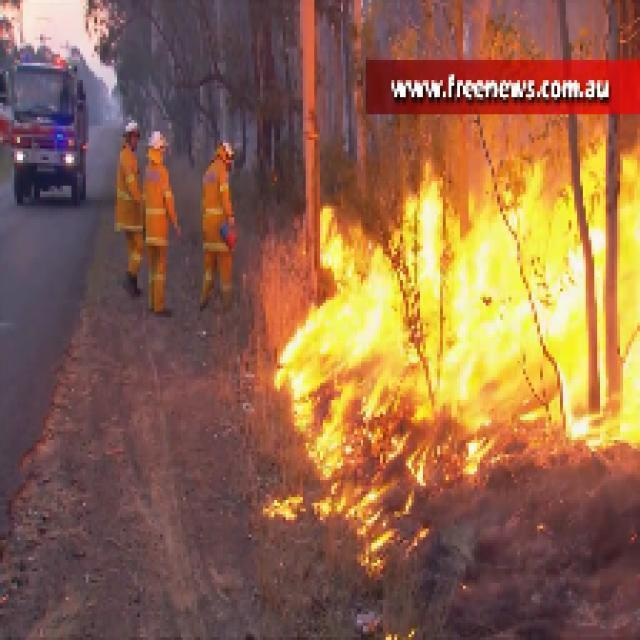Fire: (288, 198, 640, 574)
